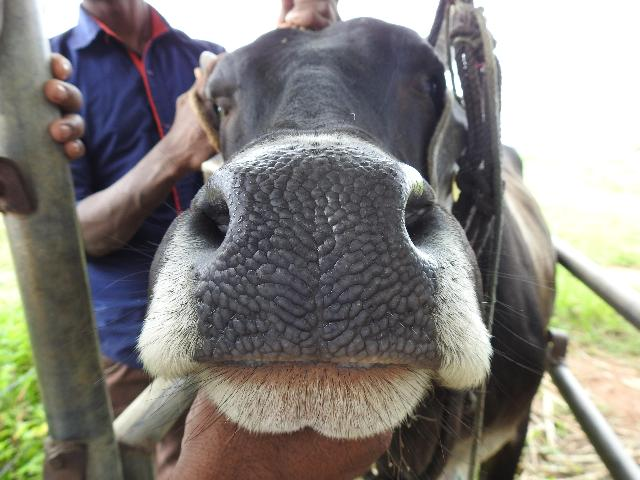Muzzle: (235, 160, 398, 356)
